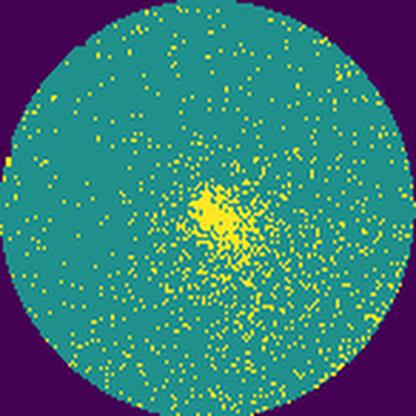Center: (189, 180, 259, 267)
